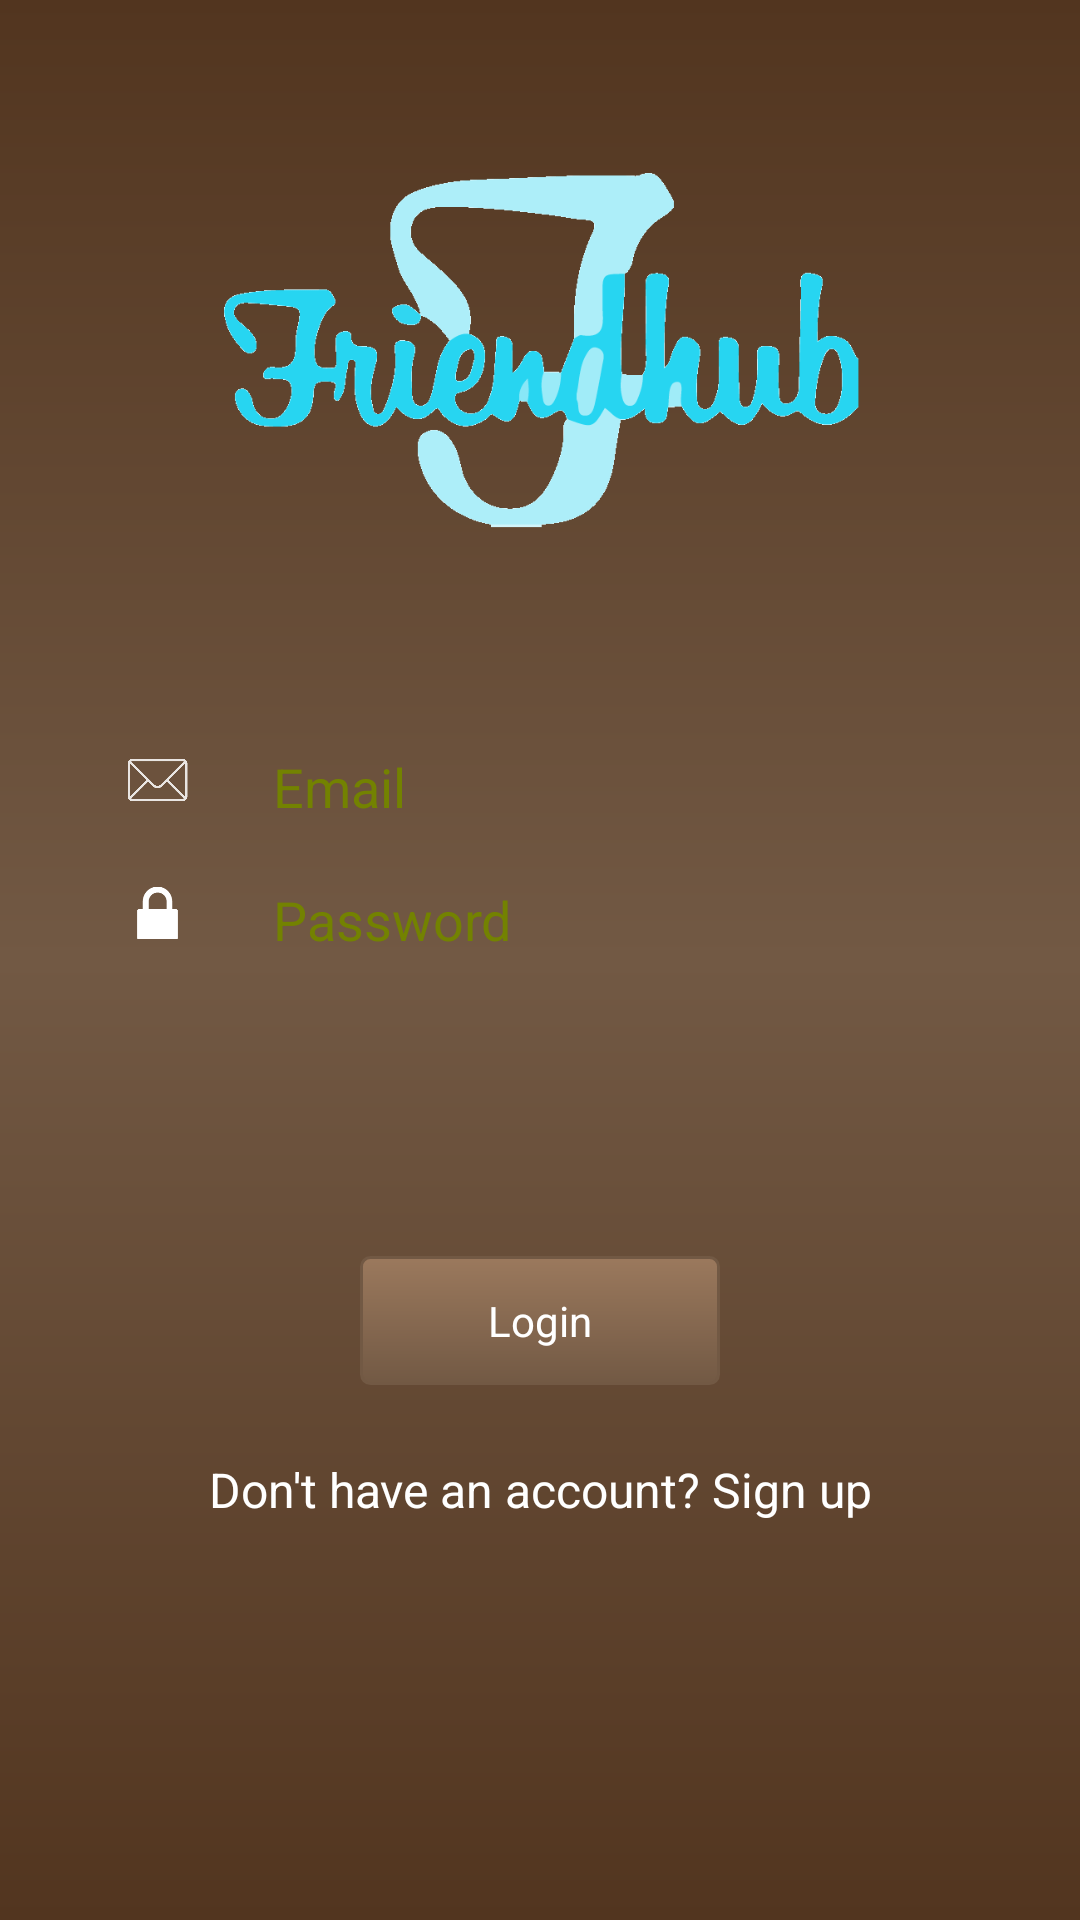

Named icons in this screenshot (1080w x 1920h) and their bounding boxes, {"x1": x1, "y1": y1, "x2": x2, "y2": y2}:
lock: {"x1": 137, "y1": 887, "x2": 178, "y2": 939}
